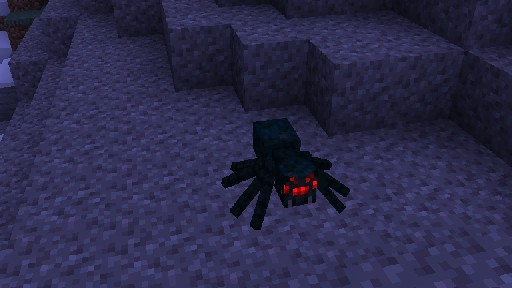cave_spider: (220, 117, 349, 229)
